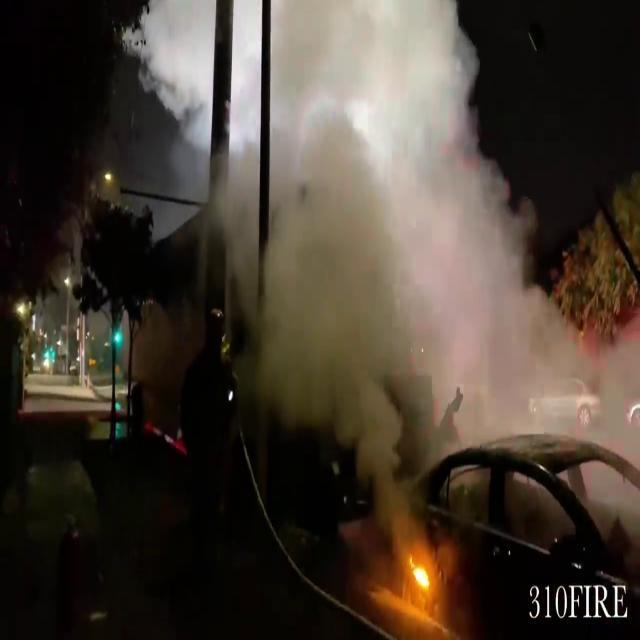Fire: (402, 548, 439, 608)
Smoke: (263, 0, 627, 460)
